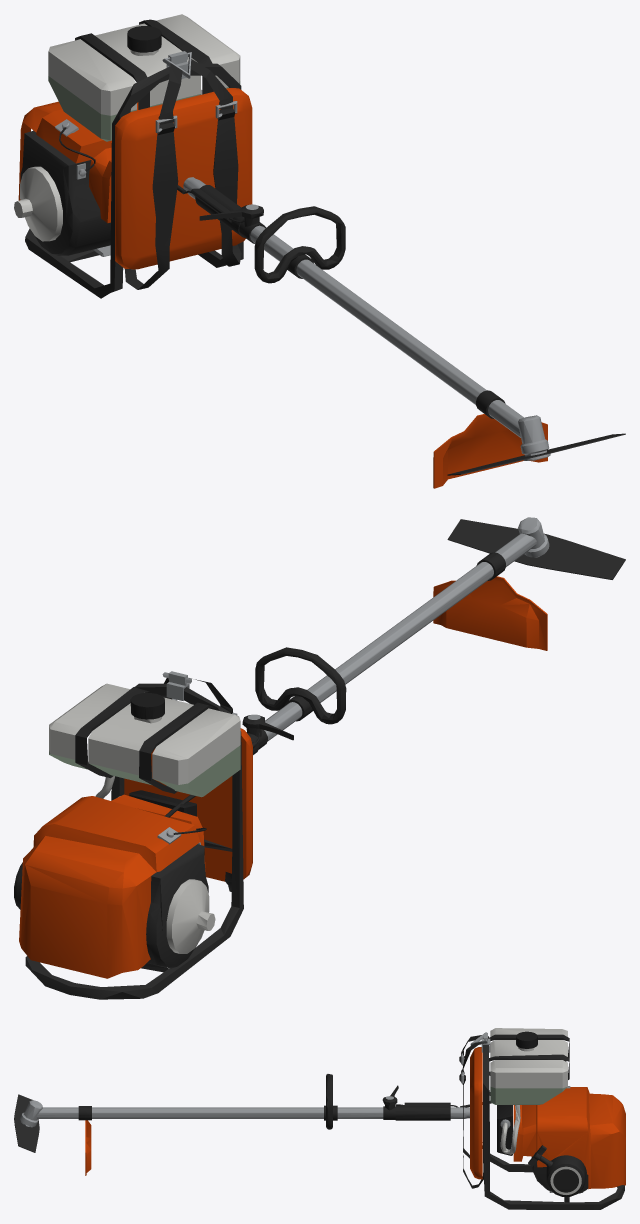
File: trimmer.glb
3 views of the same model, one above another, from view 1: azimuth 30°, elevation 25°; view 2: azimuth 150°, elevation 25°; view 3: azimuth 270°, elevation 25° (orthographic). The views are drawn at different scales.
Visible parts, largest first — view 1: pack_q, shaft_q, blade_q; view 2: pack_q, shaft_q, blade_q; view 3: pack_q, shaft_q, blade_q.
Part boxes in pixels (bbox=[...]): pack_q: bbox=[14, 14, 252, 298]; shaft_q: bbox=[177, 177, 550, 488]; blade_q: bbox=[447, 433, 625, 475]; pack_q: bbox=[14, 671, 252, 999]; shaft_q: bbox=[164, 517, 549, 817]; blade_q: bbox=[447, 519, 625, 579]; pack_q: bbox=[459, 1028, 625, 1209]; shaft_q: bbox=[20, 1074, 491, 1175]; blade_q: bbox=[14, 1094, 39, 1152].
Size of the model in its own units: 0.5029 by 0.6263 by 2.25.
